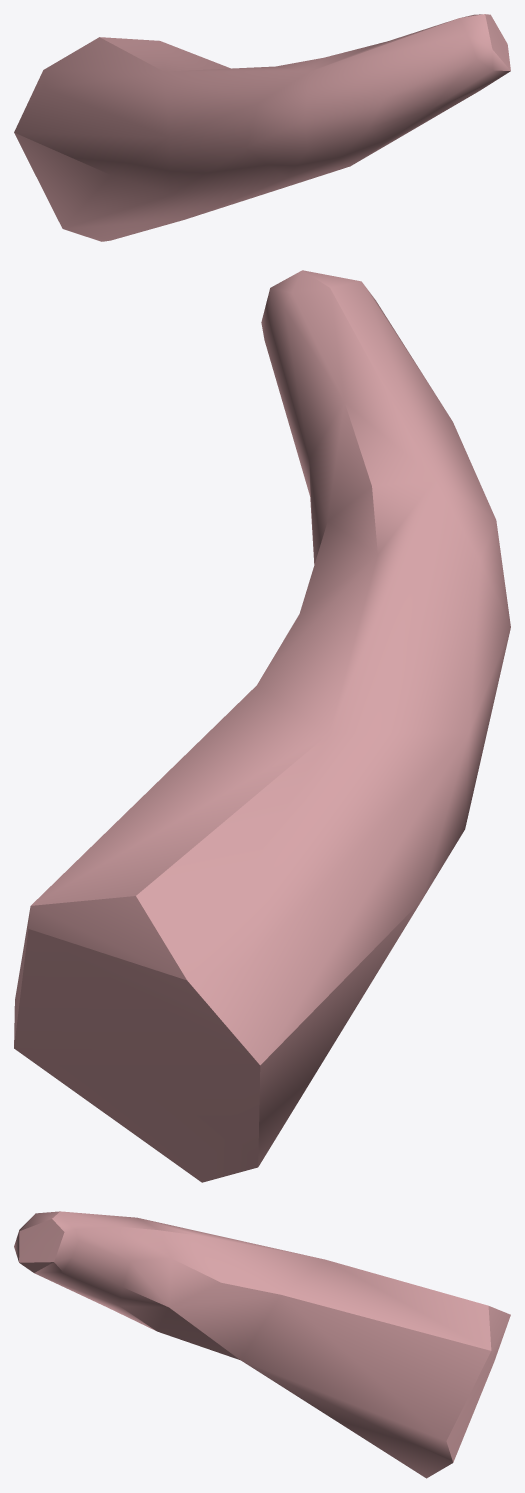
The model's file is fma68222_fj2472.glb.
3 views of the same model, one above another, from view 1: azimuth 30°, elevation 25°; view 2: azimuth 150°, elevation 25°; view 3: azimuth 270°, elevation 25° (orthographic). The views are drawn at different scales.
Parts seen in each view (by area): view 1: FMA68222_FJ2472; view 2: FMA68222_FJ2472; view 3: FMA68222_FJ2472.
Part boxes in pixels (bbox=[...]): FMA68222_FJ2472: bbox=[14, 14, 510, 241]; FMA68222_FJ2472: bbox=[14, 270, 510, 1182]; FMA68222_FJ2472: bbox=[14, 1211, 510, 1478].
Bounding box in the file's own units: 0.00592 × 0.00804 × 0.0115.
